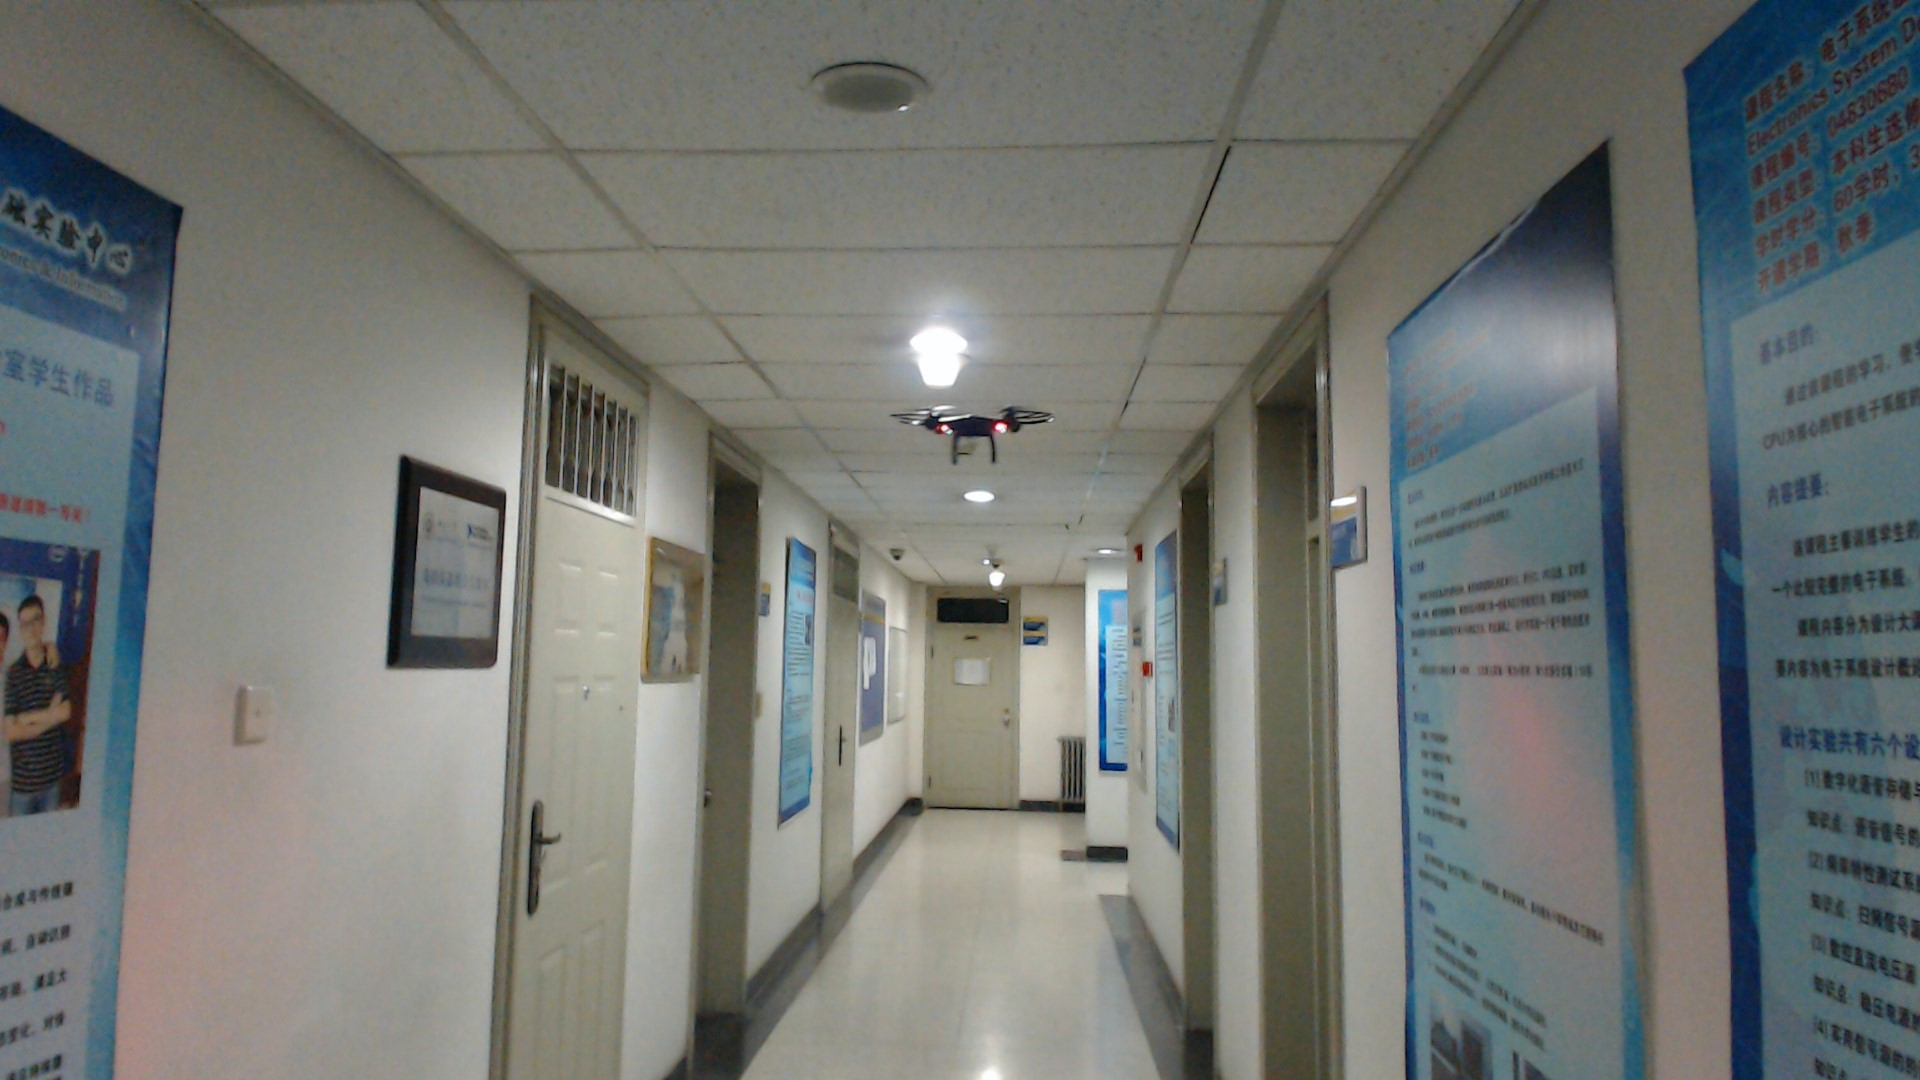test_drone: (891, 402, 1064, 468)
